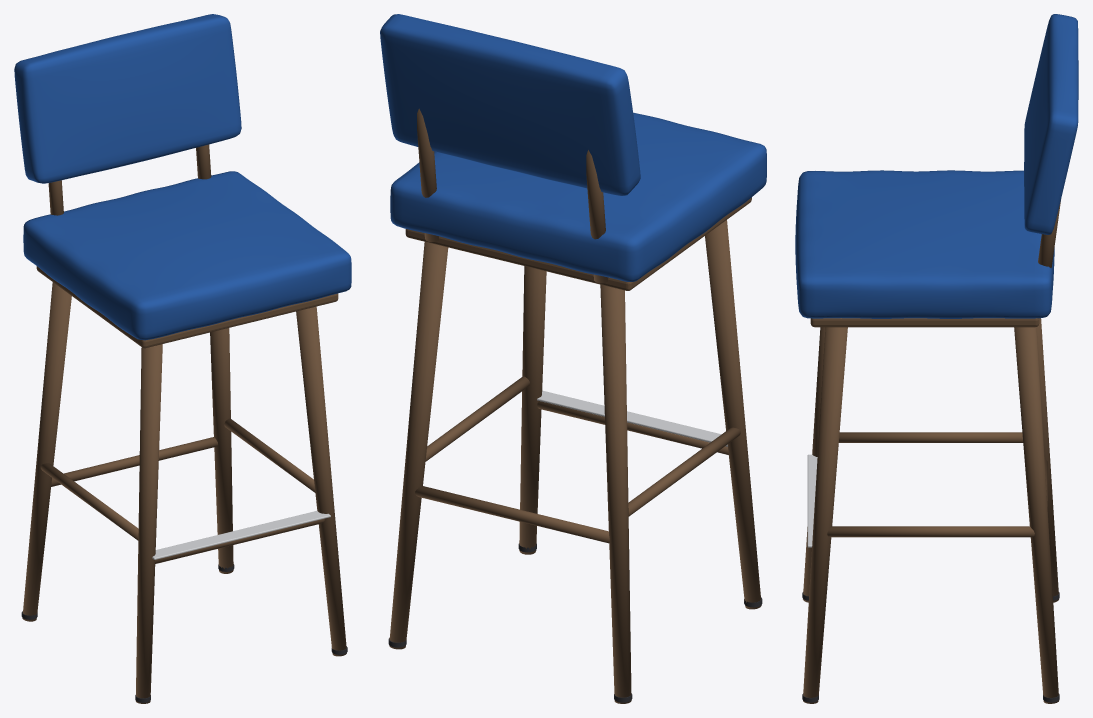
Rendered from hotel-bar-stool.glb.
3 views of the same model, side by side, from view 1: azimuth 30°, elevation 25°; view 2: azimuth 150°, elevation 25°; view 3: azimuth 270°, elevation 25° (orthographic). The views are drawn at different scales.
Visible parts, largest first — view 1: stool_cobalt, walnut_stain, brushed_metal; view 2: stool_cobalt, walnut_stain, brushed_metal; view 3: stool_cobalt, walnut_stain, brushed_metal.
Part boxes in pixels (left/top/right/bottom): stool_cobalt: left=14, top=14, right=351, bottom=340; walnut_stain: left=22, top=144, right=346, bottom=703; brushed_metal: left=152, top=511, right=330, bottom=559; stool_cobalt: left=380, top=14, right=766, bottom=281; walnut_stain: left=389, top=108, right=761, bottom=703; brushed_metal: left=537, top=390, right=727, bottom=446; stool_cobalt: left=795, top=14, right=1078, bottom=318; walnut_stain: left=803, top=200, right=1060, bottom=703; brushed_metal: left=807, top=454, right=817, bottom=547.
Size of the model in its own units: 0.4509 by 1.08 by 0.4708.
